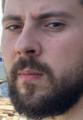without_mask: (1, 1, 83, 120)
